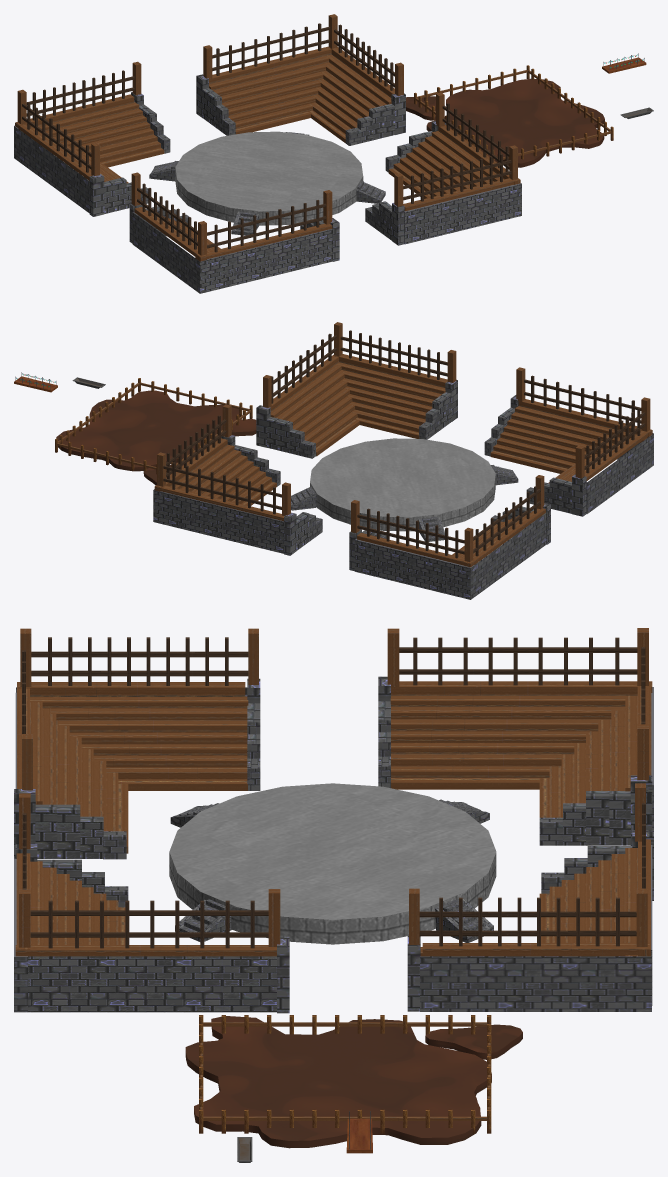
File: SM_Arena_Pack_FBX's.fbx
3 views of the same model, one above another, from view 1: azimuth 30°, elevation 25°; view 2: azimuth 150°, elevation 25°; view 3: azimuth 270°, elevation 25° (orthographic). The views are drawn at different scales.
Parts seen in each view (by area): view 1: SM_Poultry_Bash_Arena, SM_Poultry_Bash_Stage, SM_Chonk_Jousting_Arena, SM_Respawn_platform; view 2: SM_Poultry_Bash_Arena, SM_Poultry_Bash_Stage, SM_Chonk_Jousting_Arena, SM_Respawn_platform; view 3: SM_Poultry_Bash_Arena, SM_Poultry_Bash_Stage, SM_Chonk_Jousting_Arena, SM_Respawn_platform.
Boxes of the visible parts, <box> form: SM_Poultry_Bash_Arena: <box>14,14,521,293</box>; SM_Poultry_Bash_Stage: <box>175,131,363,225</box>; SM_Chonk_Jousting_Arena: <box>406,65,613,167</box>; SM_Respawn_platform: <box>602,53,646,73</box>; SM_Poultry_Bash_Arena: <box>153,322,653,599</box>; SM_Poultry_Bash_Stage: <box>310,438,495,531</box>; SM_Chonk_Jousting_Arena: <box>55,378,256,485</box>; SM_Respawn_platform: <box>14,372,57,392</box>; SM_Poultry_Bash_Arena: <box>14,628,653,1013</box>; SM_Poultry_Bash_Stage: <box>169,783,496,944</box>; SM_Chonk_Jousting_Arena: <box>185,1015,522,1148</box>; SM_Respawn_platform: <box>346,1111,372,1153</box>.
Bounding box in the file's own units: 7169 × 865 × 4248.
